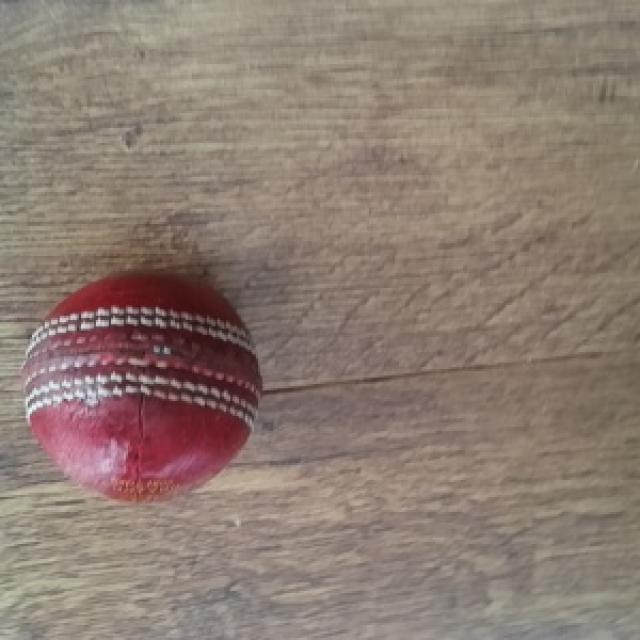ball: (19, 269, 265, 506)
